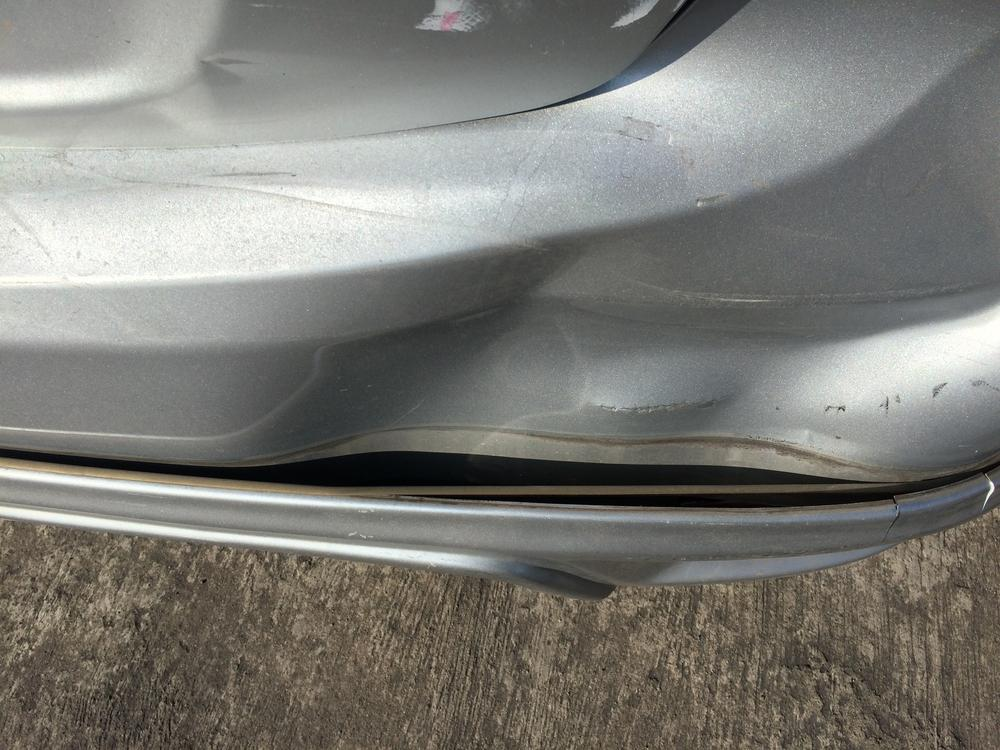crack: (882, 496, 901, 543)
dent: (274, 44, 1000, 481)
